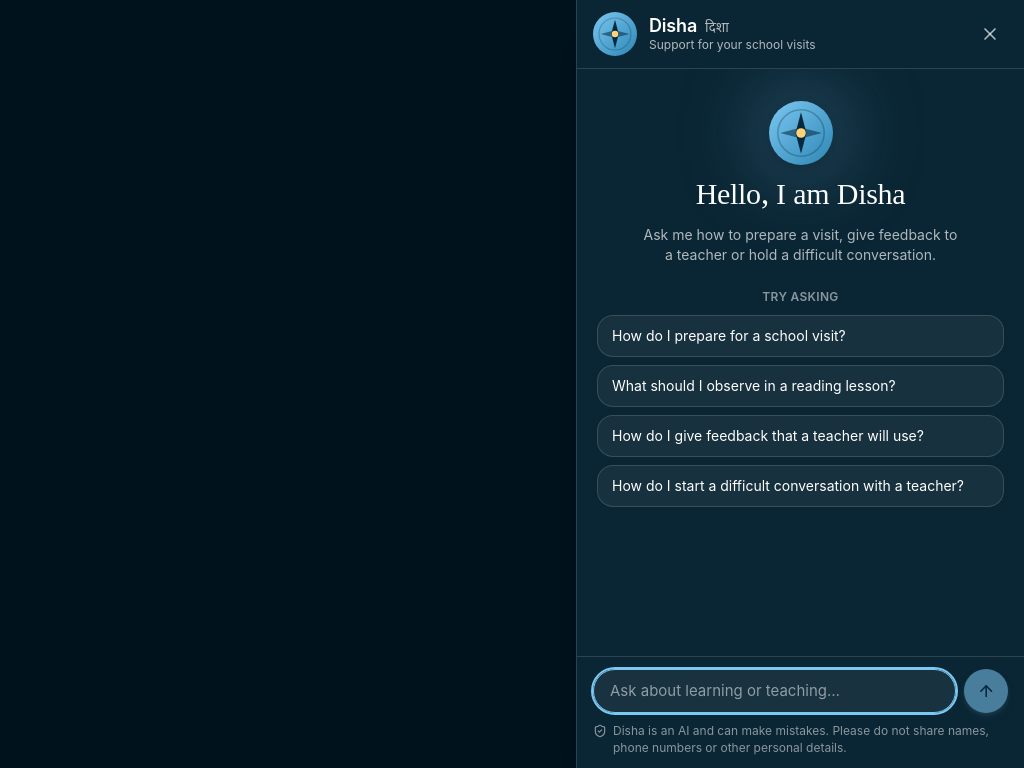
Scenario: the conversation with Disha › sends a suggested question with one tap
Click the button "How do I prepare for a school visit?": {"x": 800, "y": 336} [597,314,1004,356]
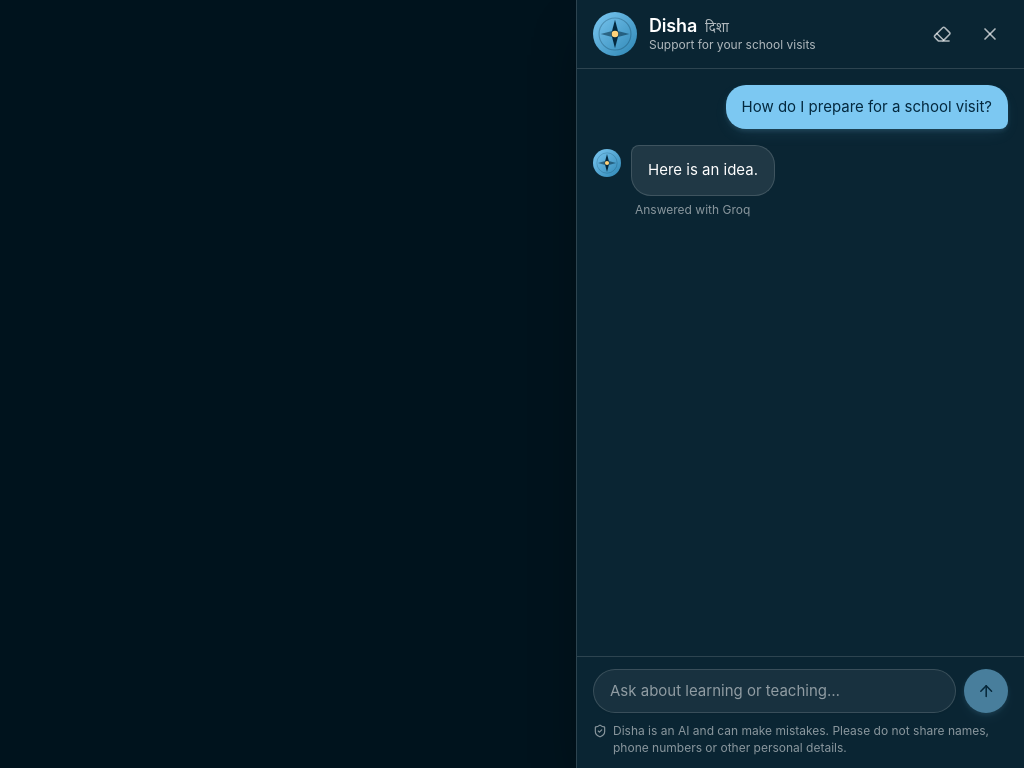
Expected: the text "Here is an idea." is shown, [648,158,758,183]
Expected: the text "Answered with Groq" is shown, [635,202,750,217]
